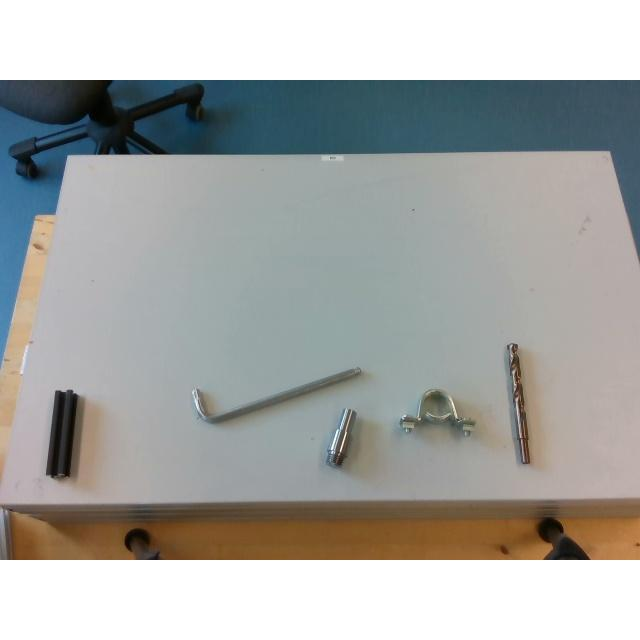AllenKey: (192, 367, 360, 423)
Axis2: (324, 408, 356, 468)
Drill: (506, 344, 530, 464)
F20_20_B: (46, 389, 78, 477)
Housing: (400, 388, 474, 436)
